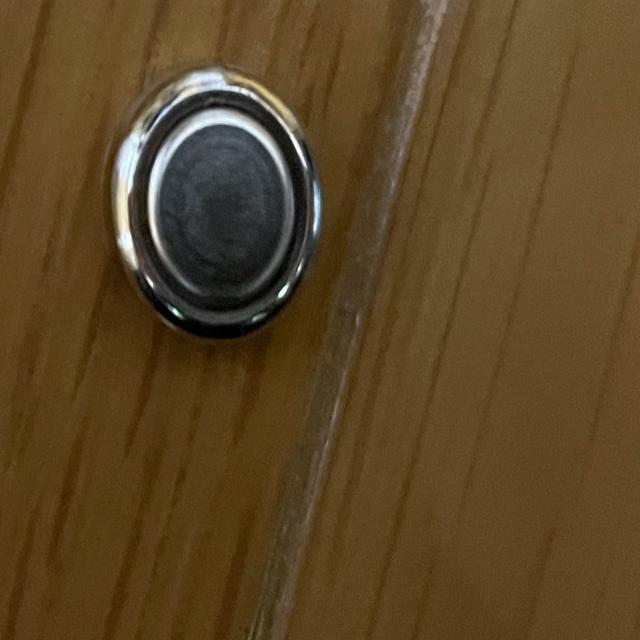COIN: (108, 68, 324, 336)
